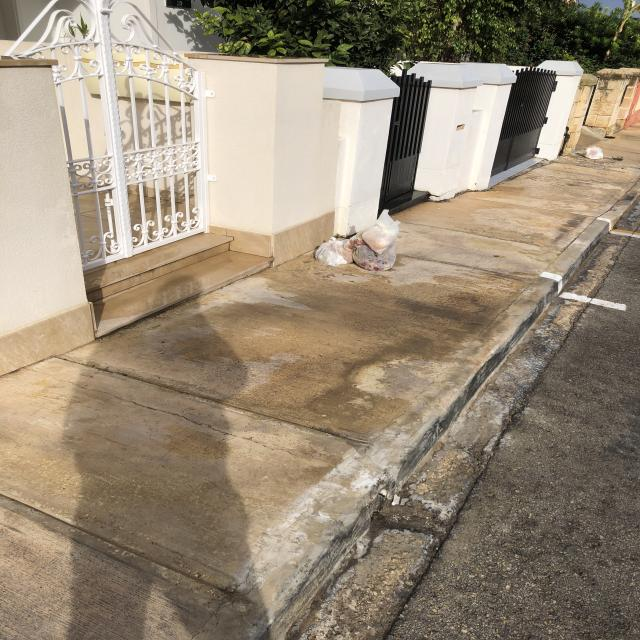Organic Waste -White Bag-: (362, 208, 402, 255), (352, 244, 400, 273), (314, 237, 353, 268), (344, 231, 368, 254), (582, 144, 608, 161)
